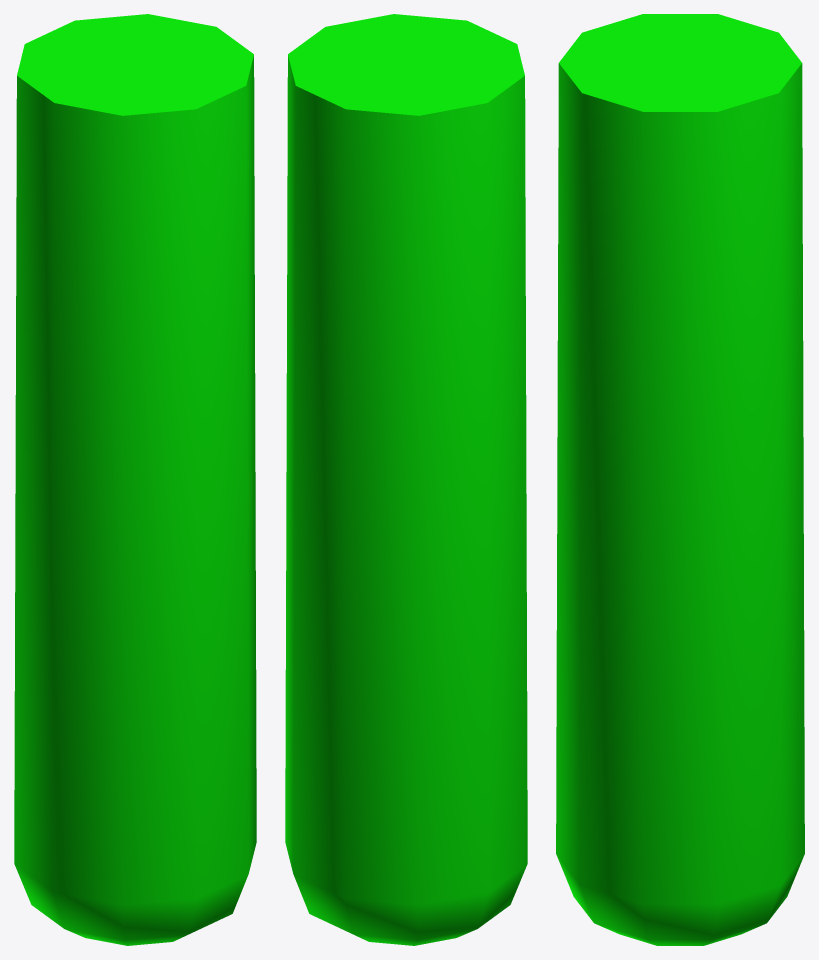
Rendered from Set_08_Tubes_Liquid_03.fbx.
3 views of the same model, side by side, from view 1: azimuth 30°, elevation 25°; view 2: azimuth 150°, elevation 25°; view 3: azimuth 270°, elevation 25° (orthographic).
Visible parts, largest first — view 1: Set_08_Tubes_Liquid_03; view 2: Set_08_Tubes_Liquid_03; view 3: Set_08_Tubes_Liquid_03.
Boxes of the visible parts, x1,y1,x2,y2 form: Set_08_Tubes_Liquid_03: [14, 14, 256, 945]; Set_08_Tubes_Liquid_03: [285, 14, 527, 945]; Set_08_Tubes_Liquid_03: [556, 14, 804, 945].
Bounding box in the file's own units: 2.35 × 9.61 × 2.48.
